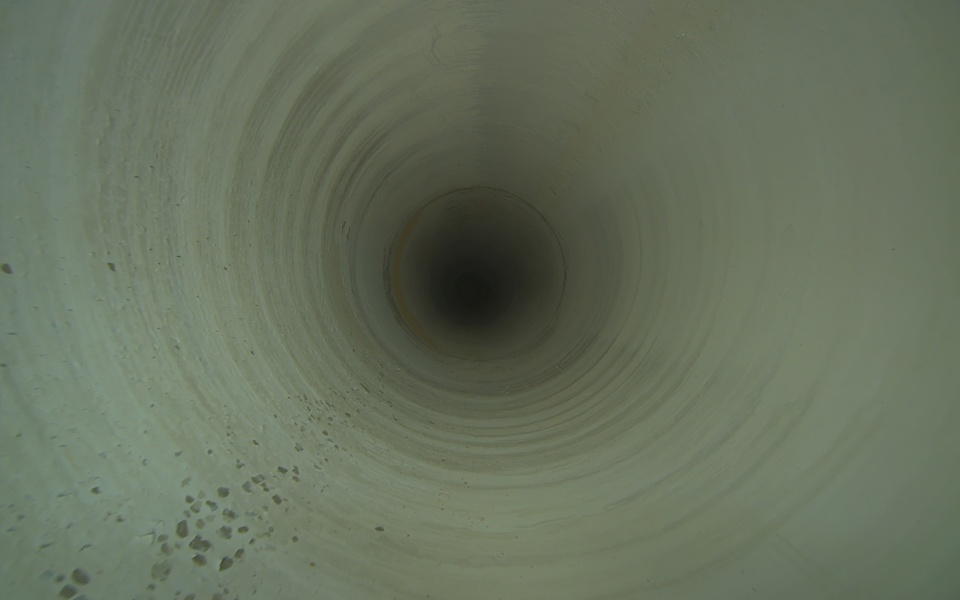circle1: (381, 182, 574, 368)
circle2: (449, 263, 497, 312)
